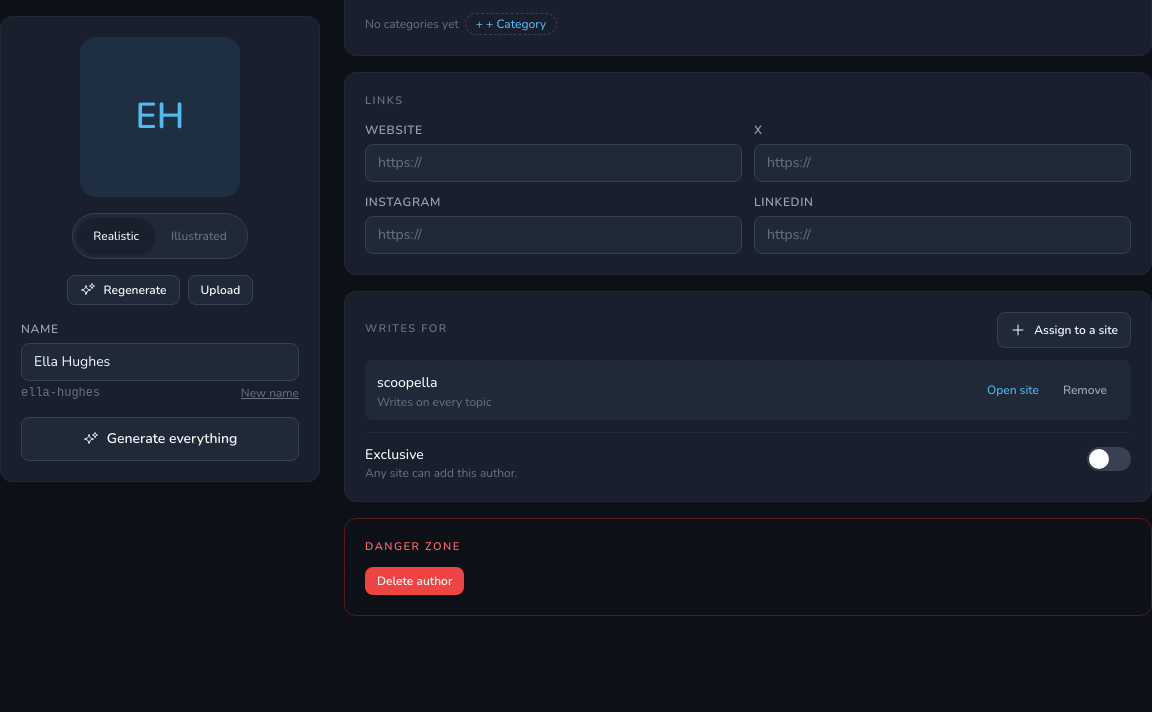
Scenario: AuthorProfileEditor › the Exclusive switch reserves the author for the sites they write for (saved with the author)
(page scrolled)
Click the switch named "Exclusive" at (1109, 458), box [1087,446,1131,470]
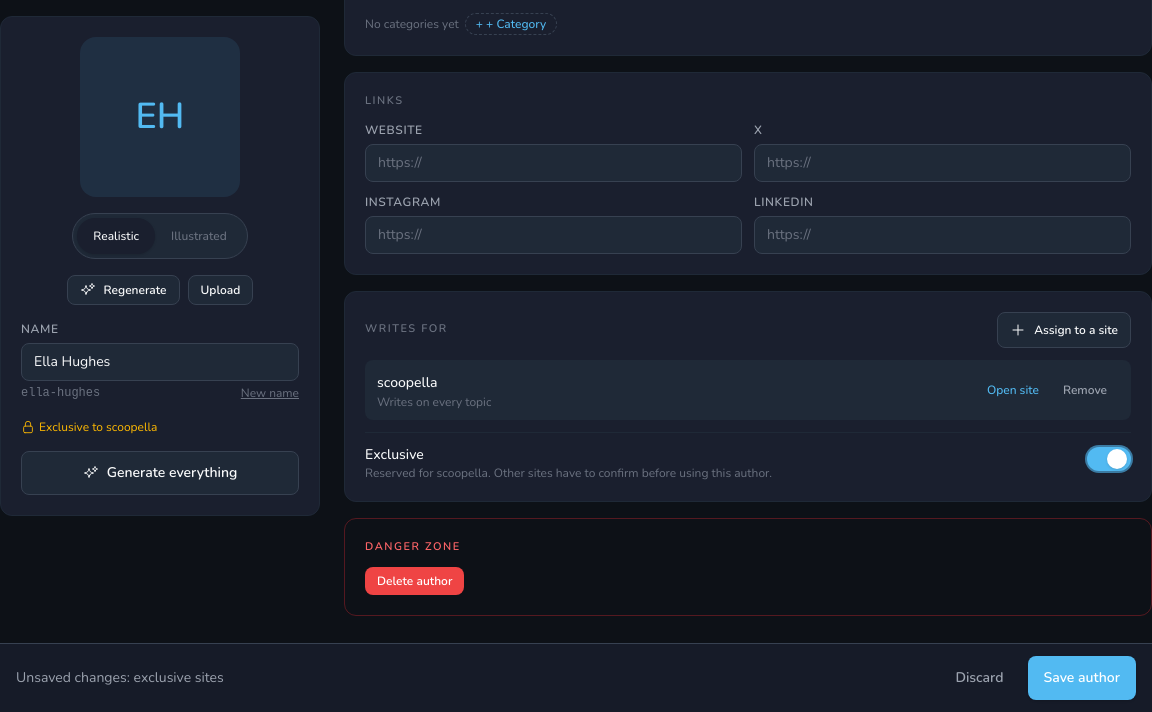
Result: the text "Unsaved changes: exclusive sites" is shown at [16,668,224,688]
